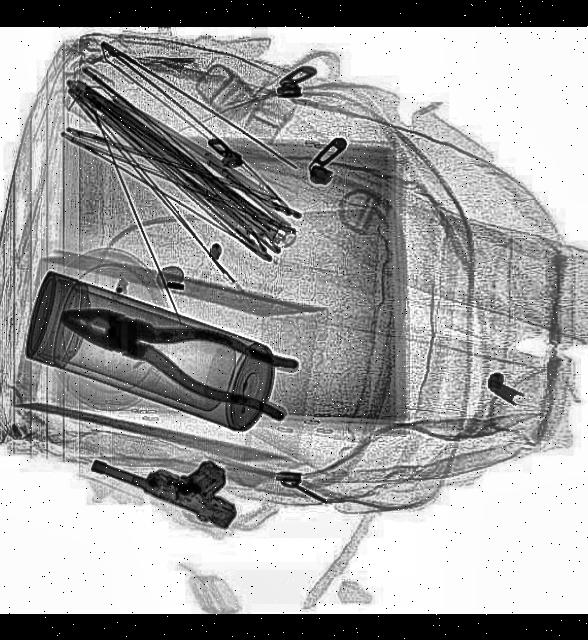Gun: (87, 418, 253, 532)
Pliers: (52, 281, 304, 421)
